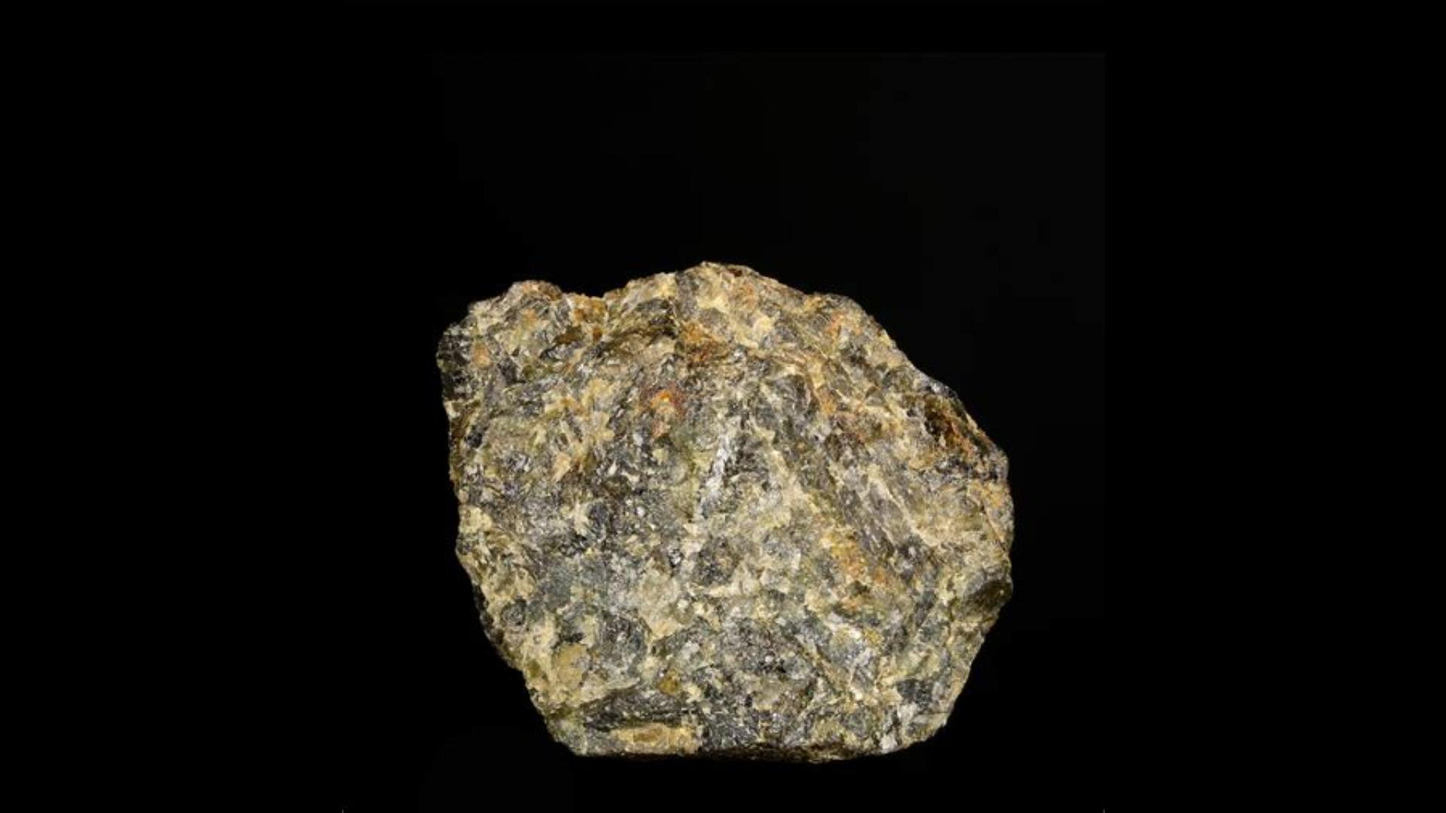rock: (443, 264, 1008, 758)
